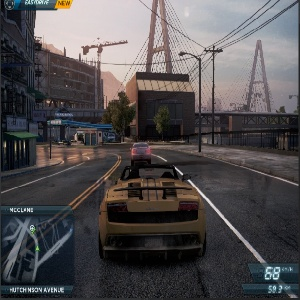building: (35, 47, 106, 149), (123, 72, 196, 139), (44, 110, 114, 145)
lamp post: (177, 49, 216, 155)
tree: (109, 94, 133, 141), (153, 104, 174, 144)
vehicle: (129, 140, 153, 163)
